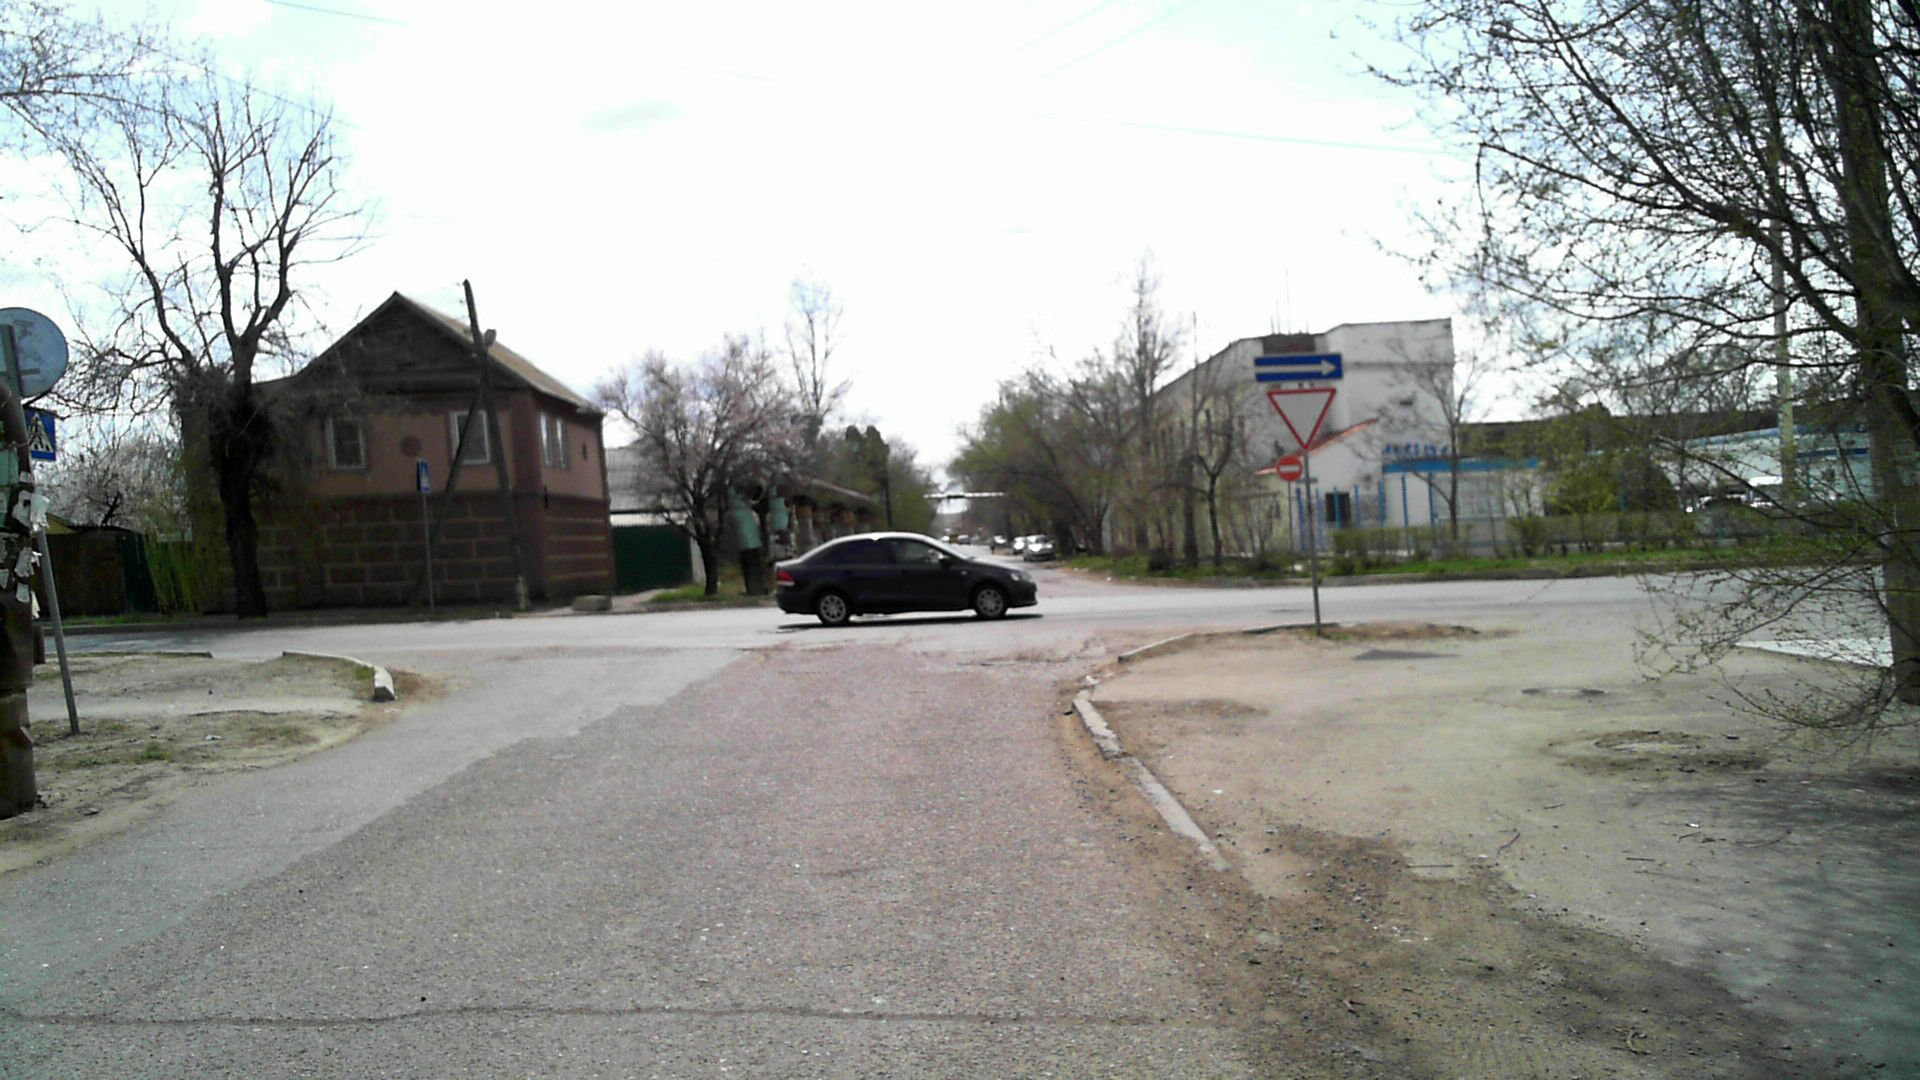One-Way Traffic: (1253, 353, 1342, 381)
